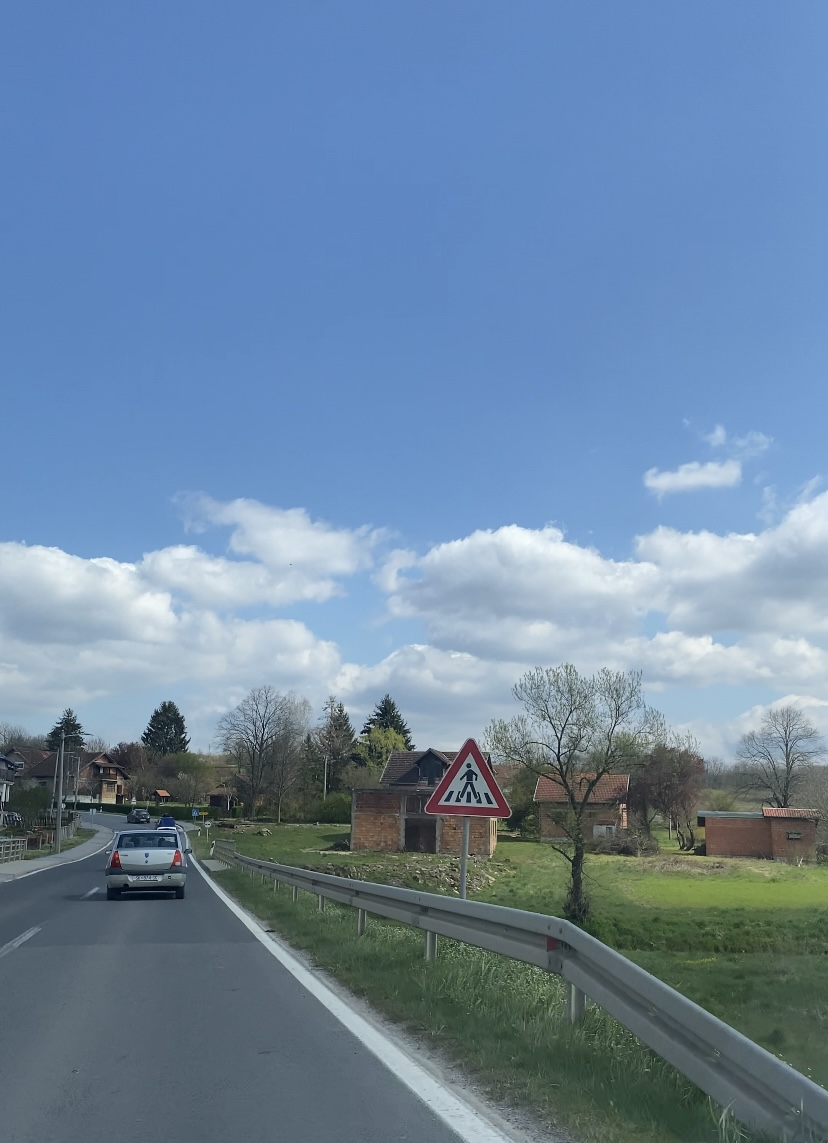Približavanje pješačkom prijelazu: (424, 736, 511, 818)
